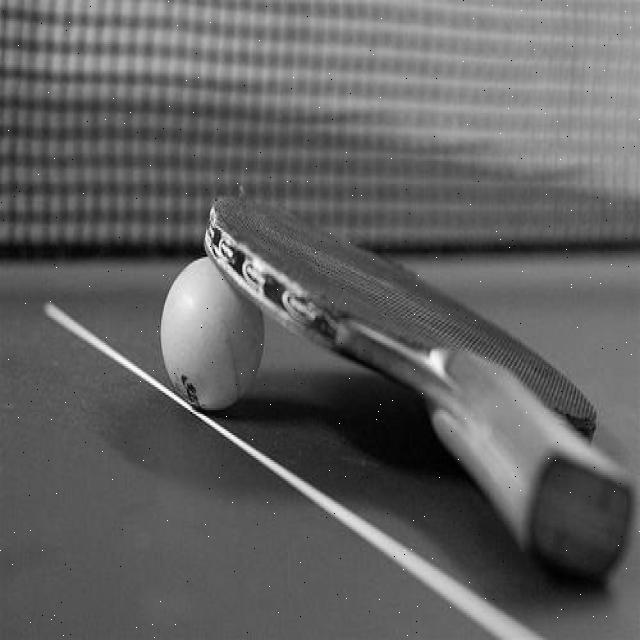ping-pong-ball: (158, 251, 266, 414)
